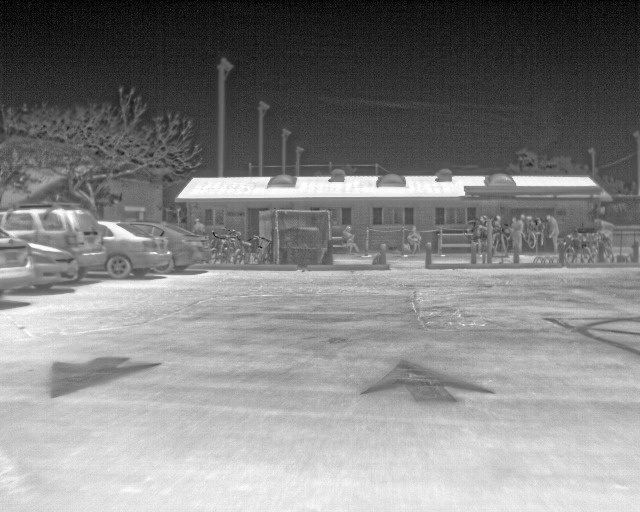vehicle: (6, 205, 102, 265), (100, 218, 172, 275), (169, 220, 217, 266)
